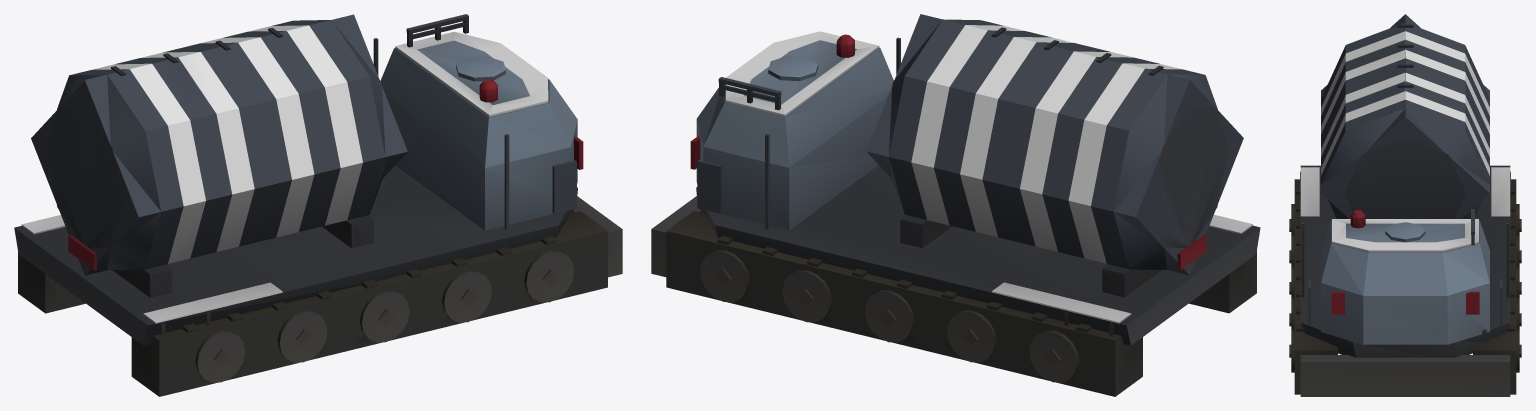
Rendered from veyran_harvester.glb.
3 renders of one model, left to right at view 1: azimuth 30°, elevation 25°; view 2: azimuth 150°, elevation 25°; view 3: azimuth 270°, elevation 25°, orthographic. The views are drawn at different scales.
Parts seen in each view (by area): view 1: hull (×3); view 2: hull (×3); view 3: hull (×3).
Part boxes in pixels (x1,y1,x2,y2): hull (×3): [14, 14, 622, 396]; hull (×3): [651, 14, 1260, 396]; hull (×3): [1289, 14, 1521, 396].
Size of the model in its own units: 6.35 by 3.42 by 3.44.
